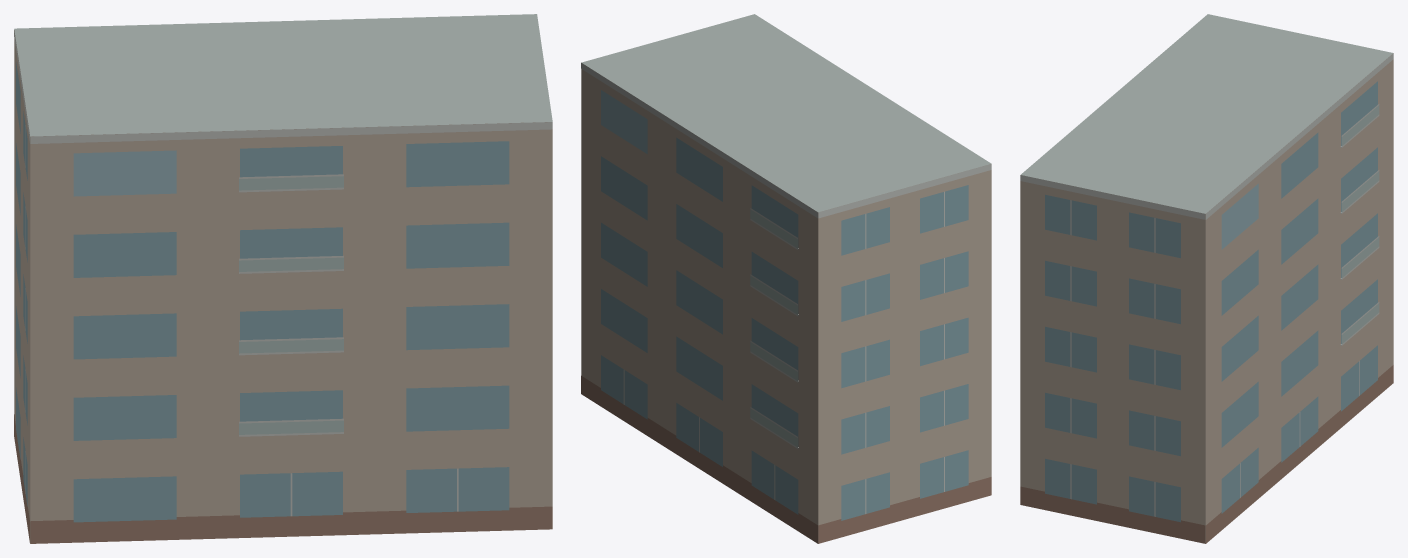
Rendered from survey-upis-32884301.glb.
The picture shows the model from 3 angles, left to right: view 1: azimuth 30°, elevation 25°; view 2: azimuth 150°, elevation 25°; view 3: azimuth 270°, elevation 25°; orthographic projection. The views are drawn at different scales.
Parts seen in each view (by area): view 1: survey-upis-32884301.tmp; view 2: survey-upis-32884301.tmp; view 3: survey-upis-32884301.tmp.
Boxes of the visible parts, x1=… form: survey-upis-32884301.tmp: x1=14, y1=14, x2=552, y2=543; survey-upis-32884301.tmp: x1=581, y1=14, x2=991, y2=543; survey-upis-32884301.tmp: x1=1020, y1=14, x2=1393, y2=543.
Bounding box in the file's own units: 17.09 × 13.15 × 13.49.
